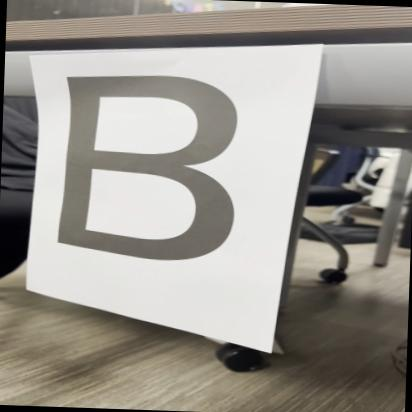seat: (49, 61, 258, 274)
